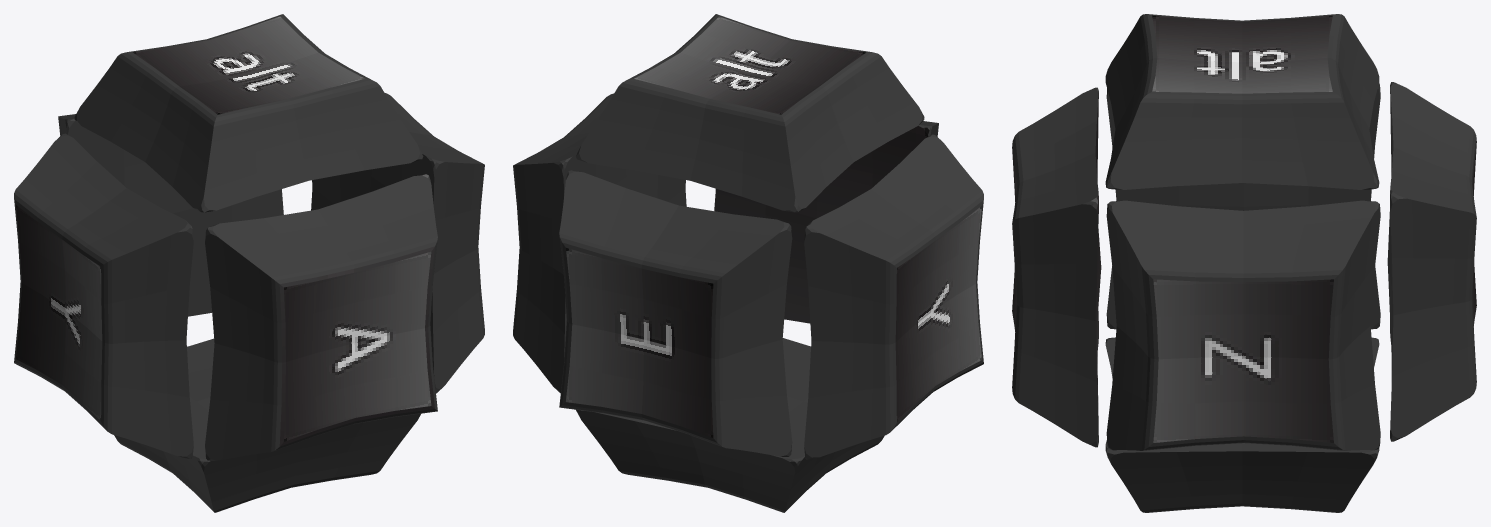
The model's file is keyboard.glb.
3 views of the same model, side by side, from view 1: azimuth 30°, elevation 25°; view 2: azimuth 150°, elevation 25°; view 3: azimuth 270°, elevation 25° (orthographic). The views are drawn at different scales.
Parts seen in each view (by area): view 1: Cube.007, Cube.003, Cube.004, Cube.002, Cube.005, Cube.006; view 2: Cube.006, Cube.003, Cube.004, Cube.005, Cube.002, Cube.007; view 3: Cube.002, Cube.004, Cube.006, Cube.007, Cube.005, Cube.003.
Boxes of the visible parts, x1,y1,x2,y2 form: Cube.007: [205, 174, 437, 460]; Cube.003: [14, 133, 193, 458]; Cube.004: [74, 14, 423, 212]; Cube.002: [311, 93, 484, 393]; Cube.005: [114, 338, 420, 512]; Cube.006: [58, 114, 283, 316]; Cube.006: [559, 170, 792, 456]; Cube.003: [804, 134, 983, 459]; Cube.004: [576, 14, 924, 212]; Cube.005: [576, 338, 884, 512]; Cube.002: [513, 93, 686, 392]; Cube.007: [714, 121, 938, 323]; Cube.002: [1106, 200, 1380, 450]; Cube.004: [1105, 14, 1379, 189]; Cube.006: [1387, 82, 1476, 441]; Cube.007: [1012, 87, 1101, 447]; Cube.005: [1105, 337, 1379, 512]; Cube.003: [1106, 83, 1380, 329].
Bounding box in the file's own units: 3.32 × 3.29 × 3.3.
Materials: 7 (6 with a texture image).
